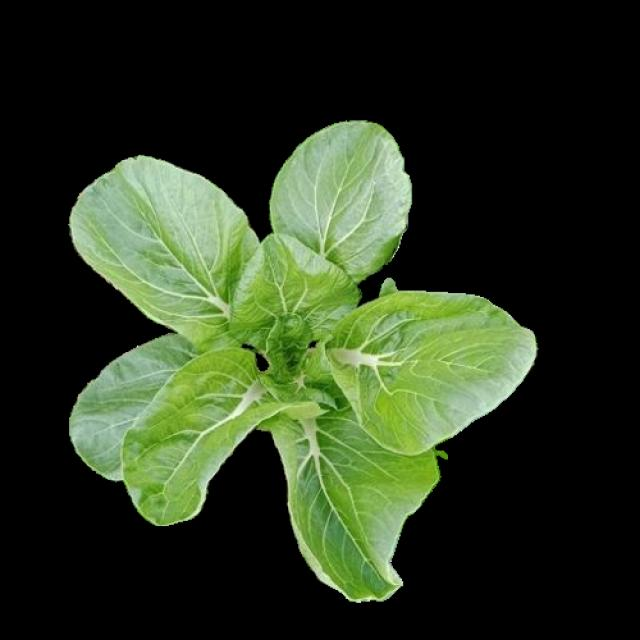healthy: (61, 120, 535, 598)
mature: (64, 123, 539, 600)
